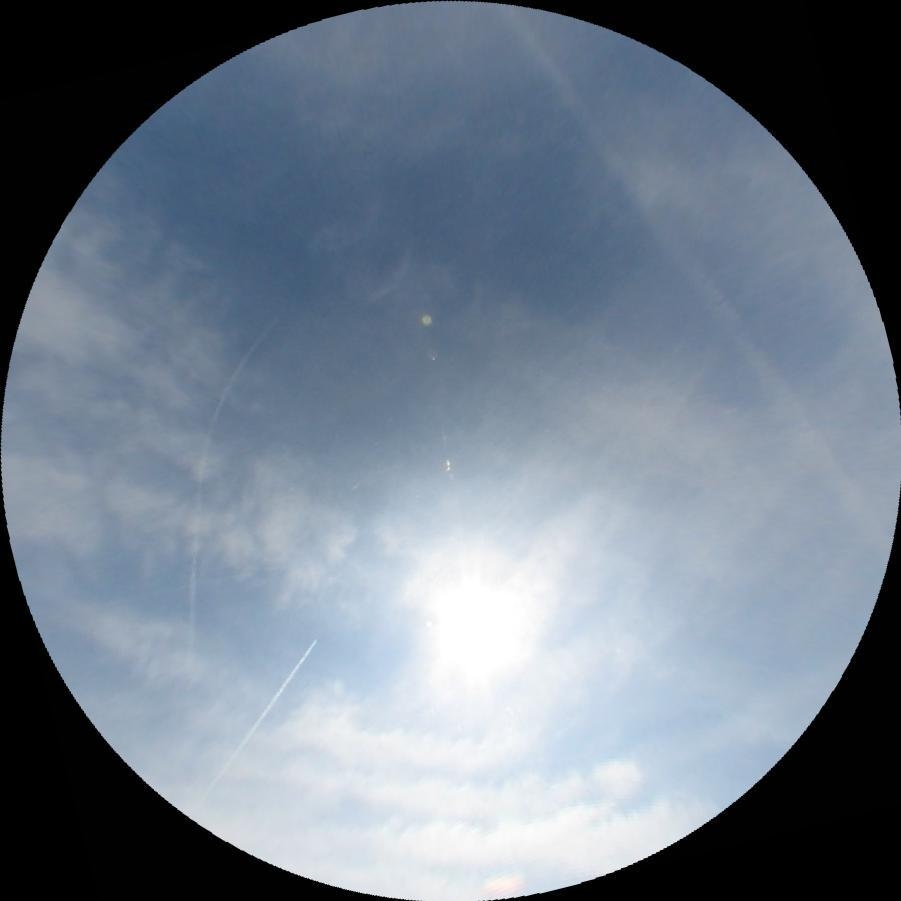contrail young: (149, 303, 280, 660), (208, 636, 318, 786)
sun: (417, 560, 541, 691)
